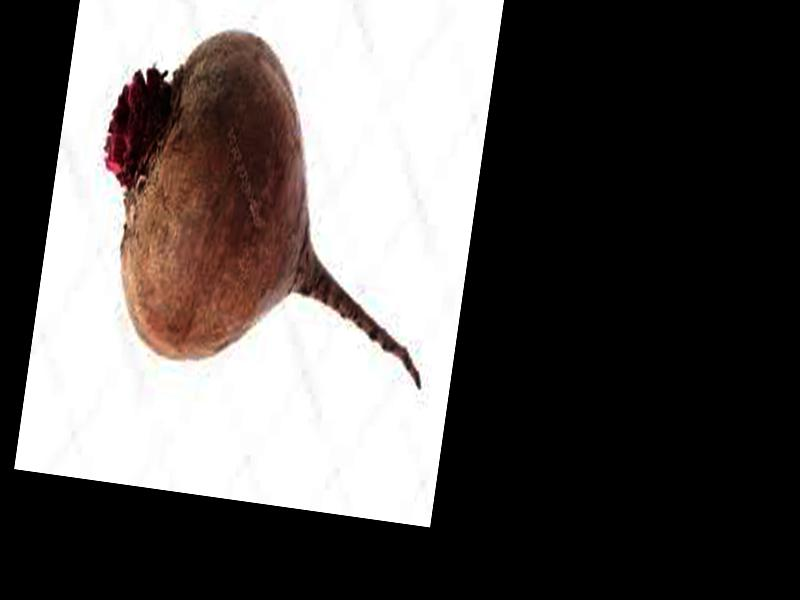Beet: (78, 9, 467, 394)
